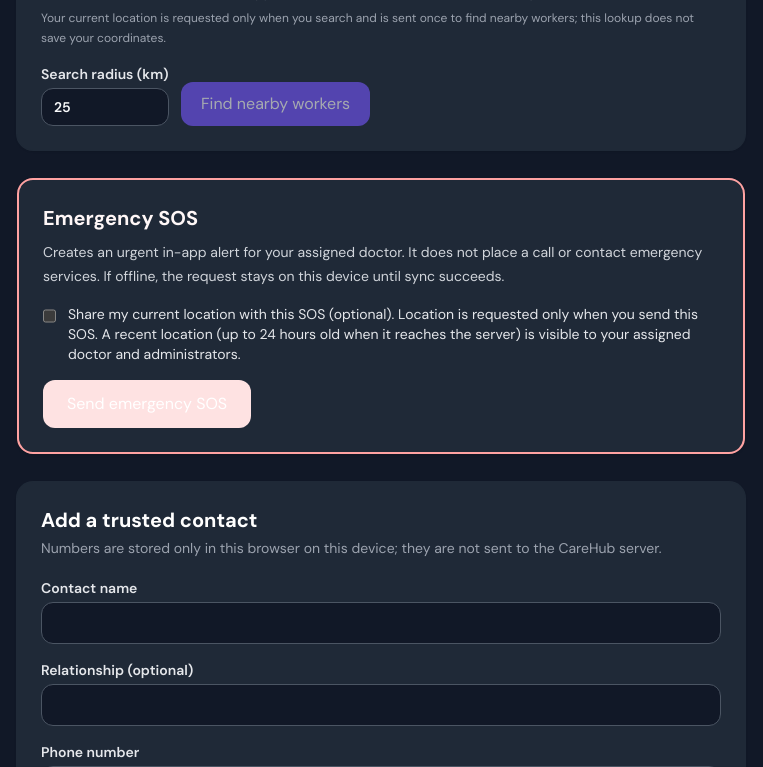
Test: EmergencyContacts › queues an SOS offline and clearly states that it has not been sent yet
(page scrolled)
Click the button "Send emergency SOS": [147, 404] box x1=43 y1=380 x2=251 y2=428
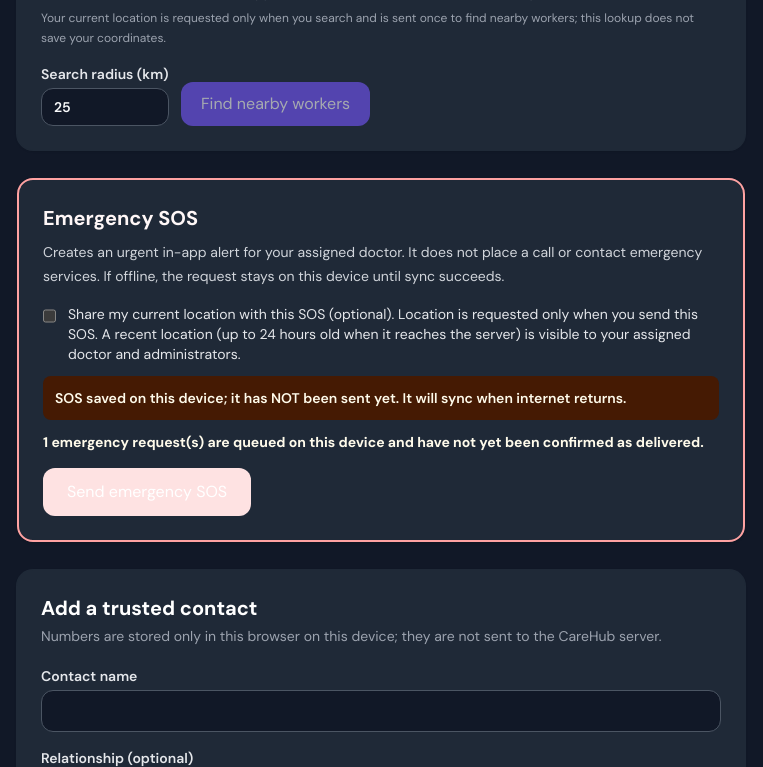
Now the text "SOS saved on this device; it has NOT been sent yet" is shown, box x1=55 y1=389 x2=626 y2=407
